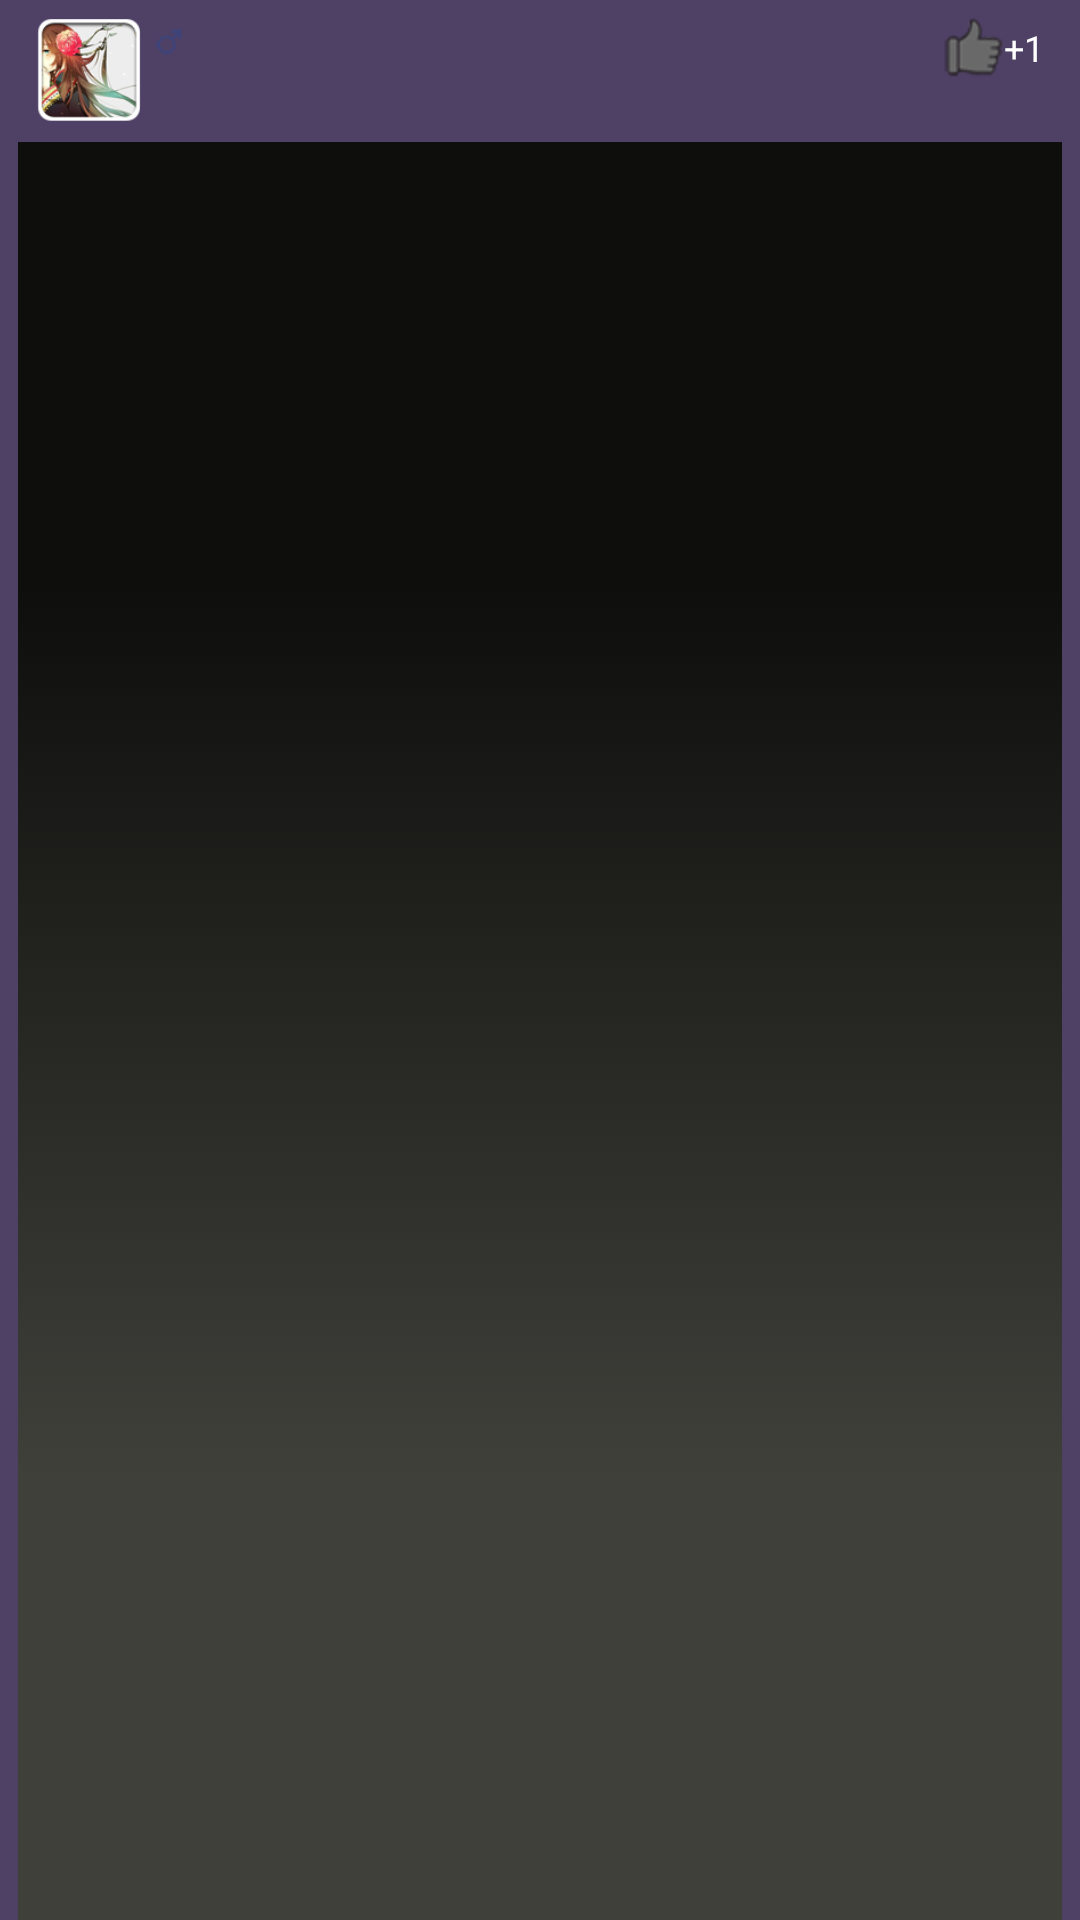

Icon bounding boxes for this 1080*1920 phone screenshot, format (x1, y1, x2, y2):
user photo: (38, 19, 140, 121)
